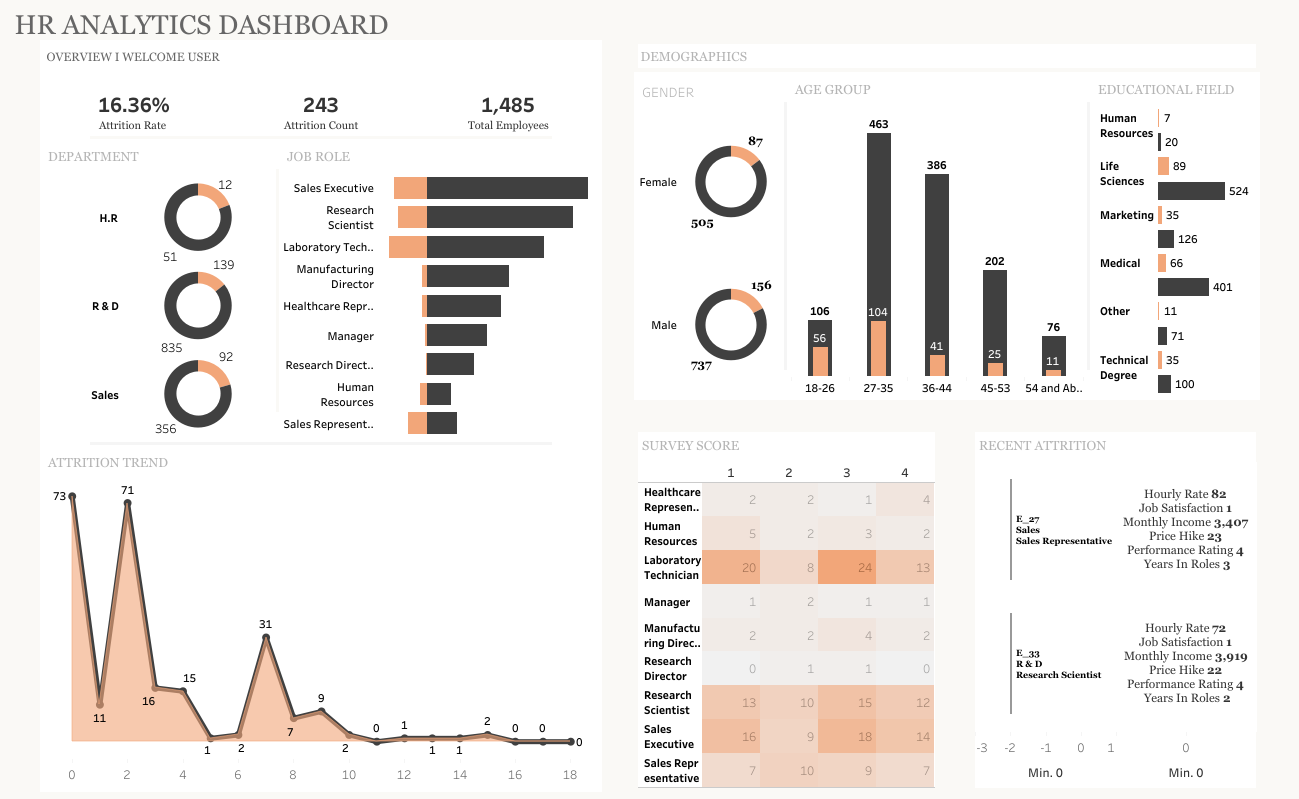

Layout of this report page (visuals, bound fields, positions):
{"tool":"tableau","page":{"name":"Dashboard 1","canvas":[1000,1000],"units":"permille","ordinal":0},"visuals":[{"type":"text","box":[6,10,987.9,40]},{"type":"blank","box":[6,50,24.2,940]},{"type":"text","box":[30.2,50,433.3,41.2]},{"type":"blank","box":[463.5,50,24.2,940]},{"type":"text","box":[487.7,50,481.7,40]},{"type":"blank","box":[969.3,50,24.7,940]},{"type":"worksheet","title":"Gender ","mark":"Pie","rows":["Gender"],"cols":["Calculation_329607232095911942","Calculation_329607232095911942"],"box":[487.7,90,117.7,410]},{"type":"blank","box":[605.4,90,2.3,410]},{"type":"worksheet","title":"Age Group","mark":"Bar","rows":["Calculation_329607232091144194","Calculation_329607232089772033"],"box":[607.6,90,226.6,410]},{"type":"blank","box":[834.2,90,2.3,410]},{"type":"worksheet","title":"Educational Field","mark":"Automatic","rows":["EducationField"],"box":[836.5,90,132.8,410]},{"type":"worksheet","title":"Attrition Rate","mark":"Automatic","box":[30.2,91.2,145,78.8]},{"type":"worksheet","title":"Attrition Count","mark":"Automatic","box":[175.2,91.2,144.3,78.8]},{"type":"worksheet","title":"Total Employees KPI","mark":"Automatic","box":[319.5,91.2,144.3,78.8]},{"type":"blank","box":[30.2,170,433.3,3.8]},{"type":"worksheet","title":"Department","mark":"Pie","rows":["Department"],"cols":["Calculation_329607232095911942","Calculation_329607232095911942"],"box":[30.2,173.8,178.2,378.8]},{"type":"blank","box":[208.5,173.8,2.3,378.8]},{"type":"worksheet","title":"Job Roles","mark":"Automatic","rows":["JobRole"],"box":[210.7,173.8,252.8,378.8]},{"type":"blank","box":[487.7,500,481.7,35]},{"type":"worksheet","title":"Survey Score","mark":"Automatic","rows":["JobRole"],"cols":["JobSatisfaction"],"box":[487.7,535,230.4,455]},{"type":"blank","box":[718,535,24.2,455]},{"type":"worksheet","title":"Recent Attrition","mark":"Automatic","rows":["EmployeeNumber"],"cols":["Calculation_329607232115814409","Calculation_329607232115916811","Calculation_329607232115986445"],"box":[742.2,535,227.1,455]},{"type":"blank","box":[30.2,552.5,433.3,3.8]},{"type":"worksheet","title":"Attrition Trend","mark":"Automatic","rows":["Calculation_329607232089772033","Calculation_329607232089772033"],"cols":["YearsInCurrentRole"],"box":[30.2,556.2,433.3,433.8]}]}

Visuals, with their boxes on the dashboard's canvas, which has no fixed pixel size, in thousandths of its width and height (x1, y1, x2, y2). These are canvas units, not pixel positions in the 1299x799 screenshot, which may show the page scaled, cropped or inside an application window:
text: locate(6, 10, 994, 50)
blank: locate(6, 50, 30, 990)
text: locate(30, 50, 464, 91)
blank: locate(464, 50, 488, 990)
text: locate(488, 50, 969, 90)
blank: locate(969, 50, 994, 990)
"Gender " worksheet (Pie marks): locate(488, 90, 605, 500)
blank: locate(605, 90, 608, 500)
"Age Group" worksheet (Bar marks): locate(608, 90, 834, 500)
blank: locate(834, 90, 836, 500)
"Educational Field" worksheet: locate(836, 90, 969, 500)
"Attrition Rate" worksheet: locate(30, 91, 175, 170)
"Attrition Count" worksheet: locate(175, 91, 320, 170)
"Total Employees KPI" worksheet: locate(320, 91, 464, 170)
blank: locate(30, 170, 464, 174)
"Department" worksheet (Pie marks): locate(30, 174, 208, 553)
blank: locate(208, 174, 211, 553)
"Job Roles" worksheet: locate(211, 174, 464, 553)
blank: locate(488, 500, 969, 535)
"Survey Score" worksheet: locate(488, 535, 718, 990)
blank: locate(718, 535, 742, 990)
"Recent Attrition" worksheet: locate(742, 535, 969, 990)
blank: locate(30, 552, 464, 556)
"Attrition Trend" worksheet: locate(30, 556, 464, 990)
